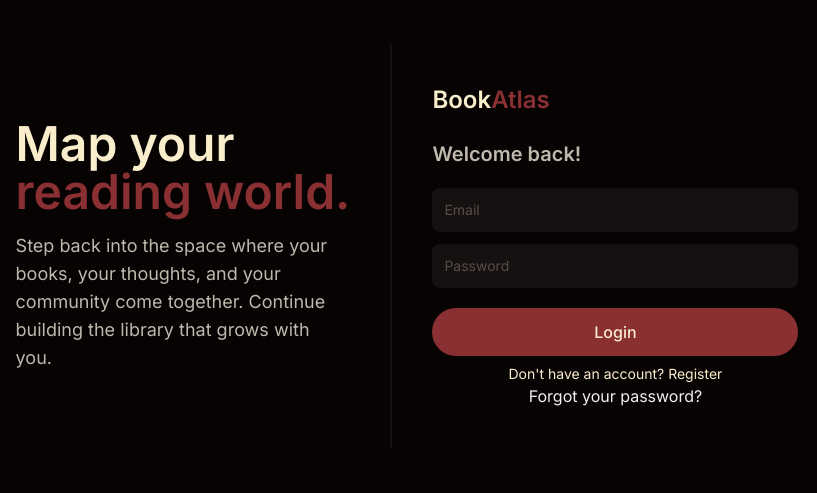
it: LoginPage › shows an error for invalid email format
Type "invalidemail" into the field with placeholder "Email" at (615, 210), box [432, 188, 798, 232]
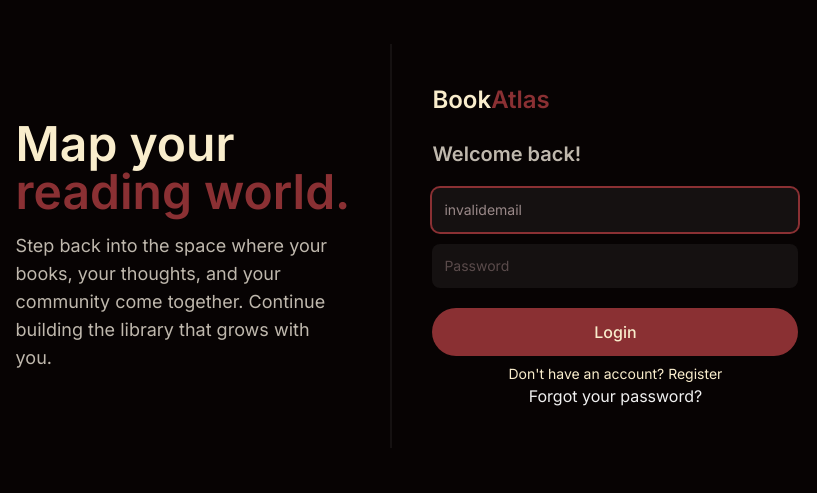
Type "Password123!" into the password field with placeholder "Password" at (615, 266), box [432, 244, 798, 288]
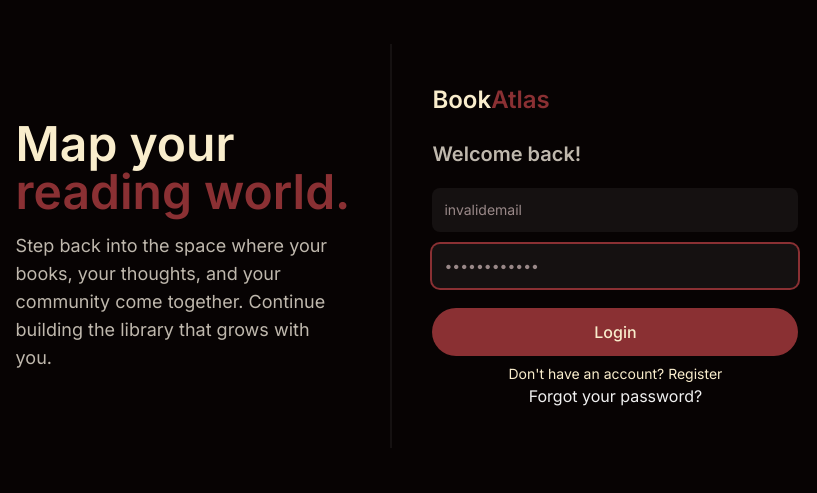
Click the button "Login" at (615, 332), box [432, 308, 798, 356]
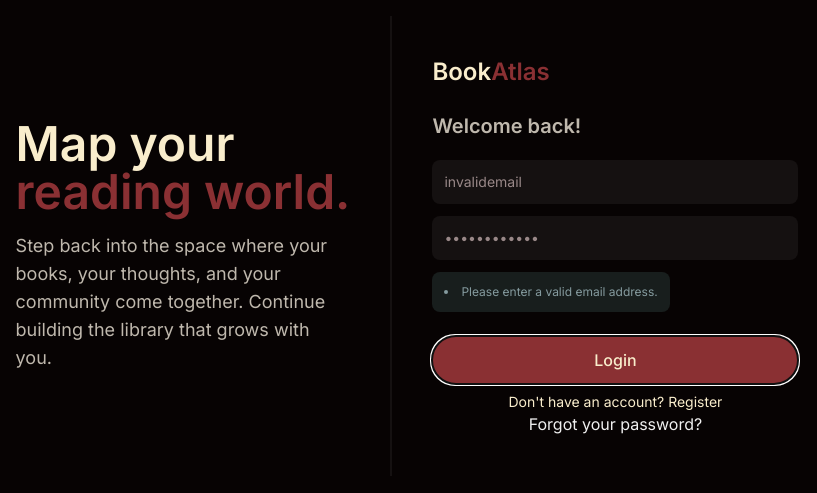
Expected: the list item "Please enter a valid email address." is shown, [444, 284, 658, 300]
